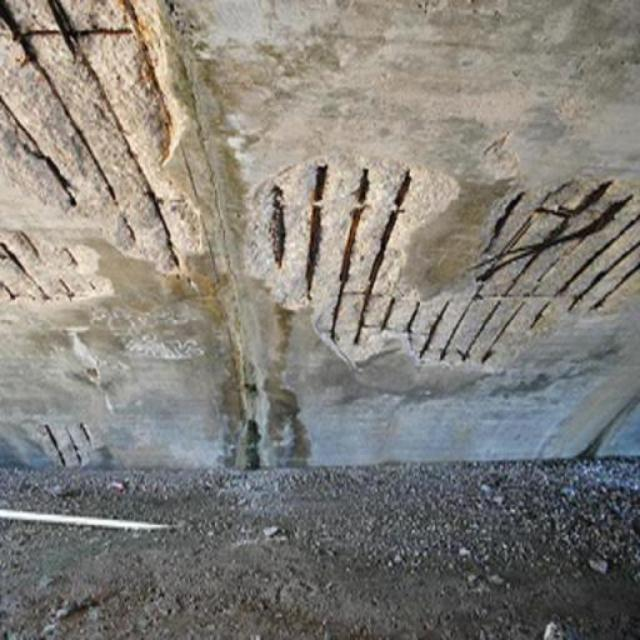D0w0: (242, 158, 637, 367), (0, 2, 217, 301)
